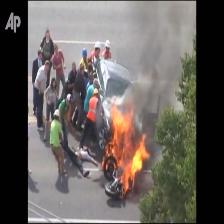fire: (112, 117, 147, 179)
smoke: (137, 8, 175, 106)
